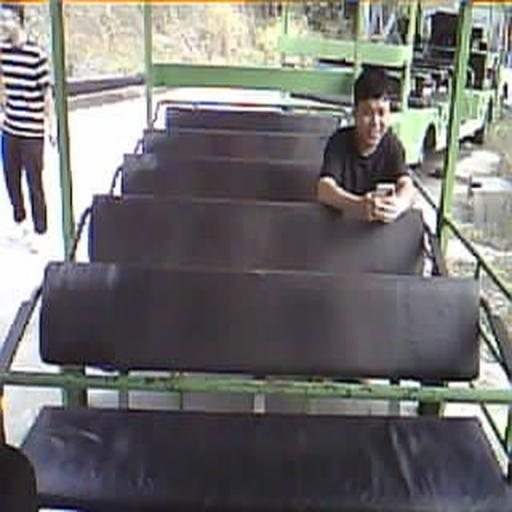persona: (316, 66, 416, 224), (0, 12, 58, 234)
